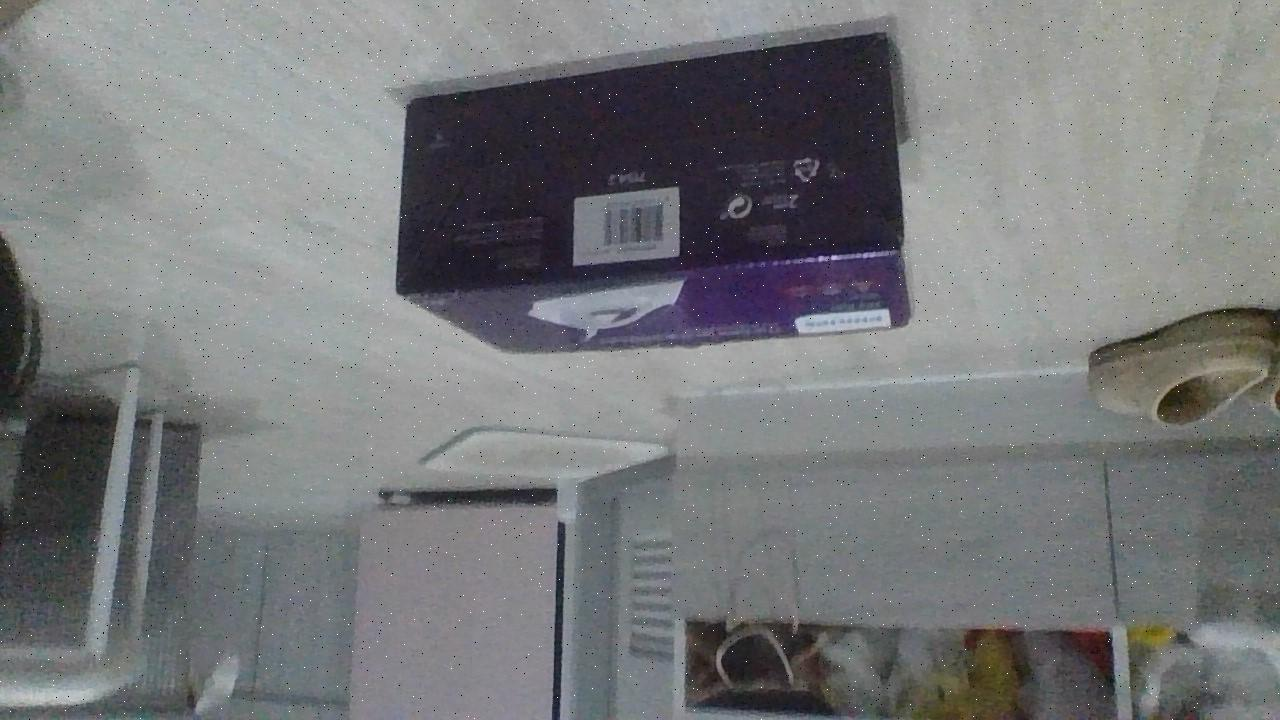IRON: (391, 28, 919, 359)
